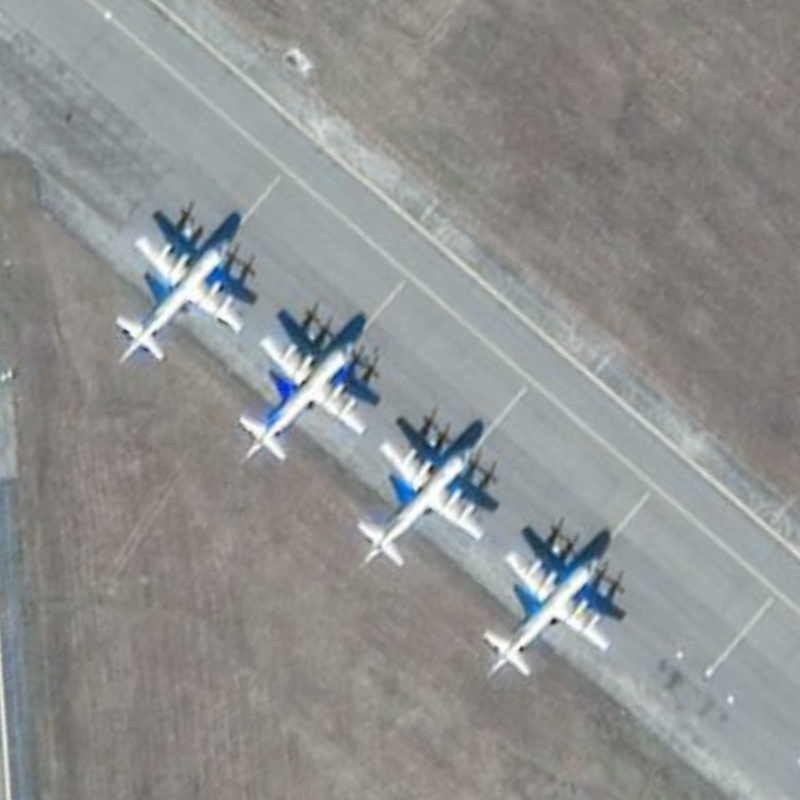A9: (110, 206, 256, 374), (352, 429, 499, 574), (233, 319, 375, 469), (477, 534, 620, 681)
